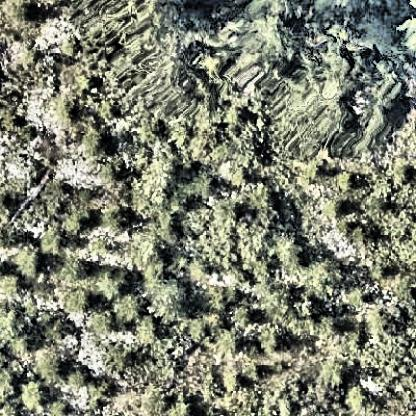tree-top: (285, 76, 351, 162), (146, 277, 193, 327), (12, 241, 43, 279), (34, 351, 66, 381), (102, 269, 132, 297), (68, 287, 95, 316), (24, 382, 52, 409), (81, 126, 107, 154), (257, 329, 284, 355), (8, 1, 36, 23), (283, 247, 304, 273), (64, 257, 87, 280)
